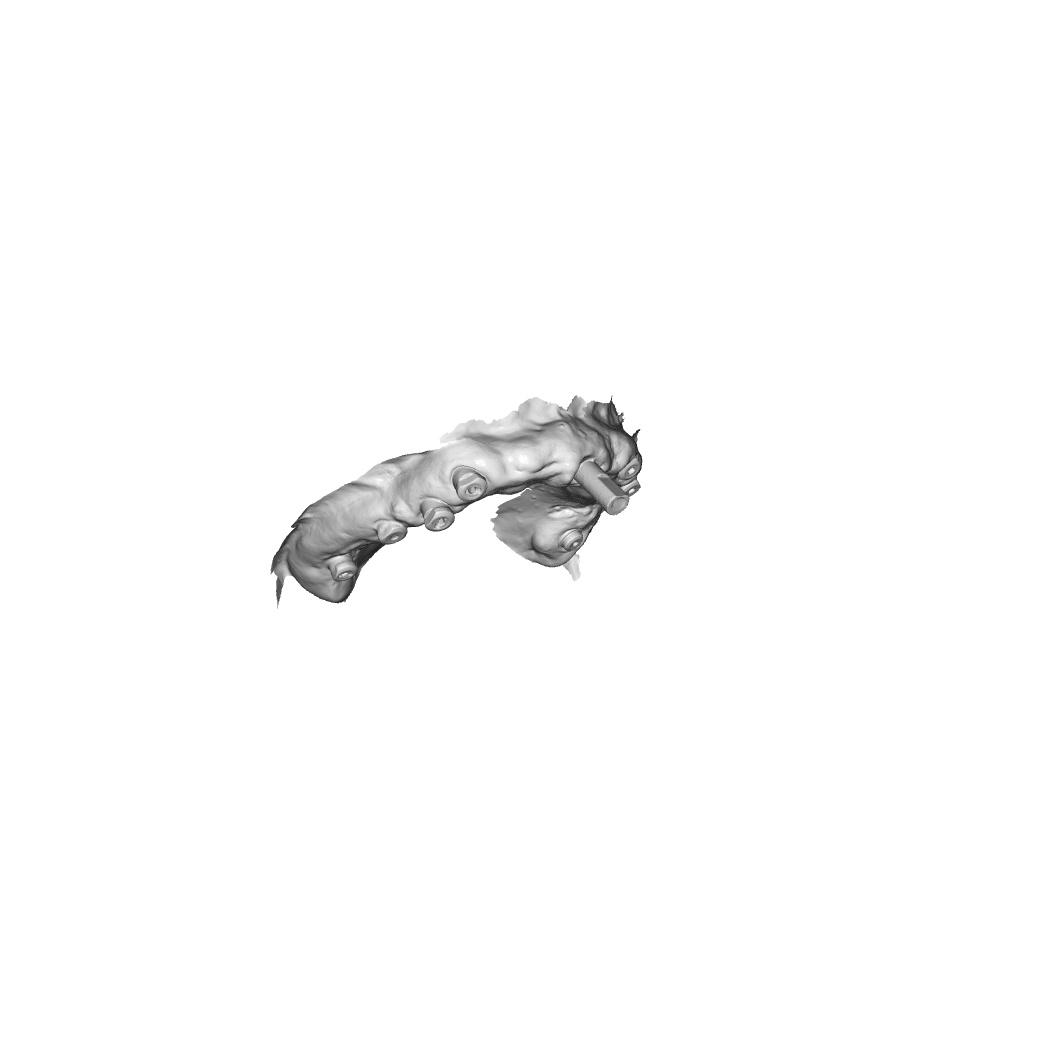implant: (572, 458, 629, 516), (326, 553, 359, 584), (376, 518, 409, 548), (557, 526, 584, 554), (616, 456, 642, 482), (620, 479, 641, 498)
implant_minus: (451, 466, 489, 503), (421, 498, 456, 534)
